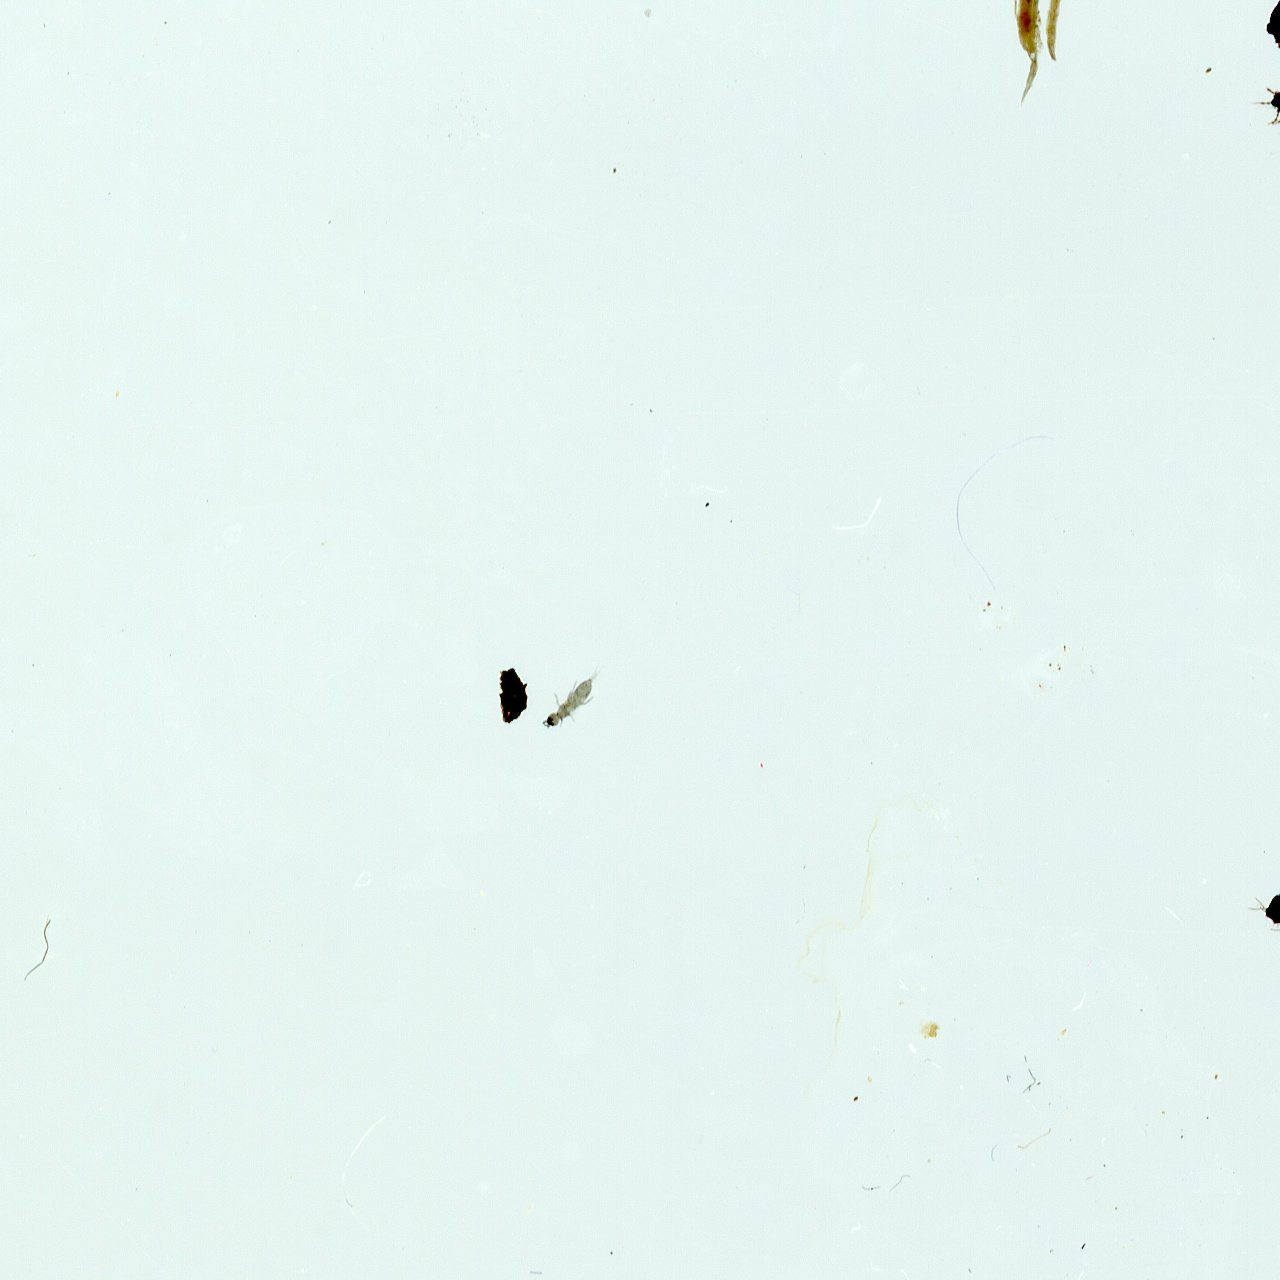arthropod: (531, 647, 619, 743), (1249, 71, 1280, 129)
